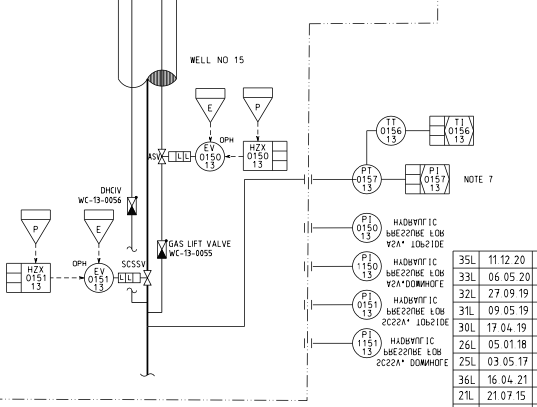Instrument: (349, 161, 385, 198), (350, 210, 384, 245), (375, 111, 407, 148), (350, 325, 383, 360), (351, 249, 384, 284), (350, 289, 384, 321), (83, 262, 116, 294), (193, 141, 226, 172)
Instrument-square: (4, 261, 56, 296), (241, 138, 290, 172)
